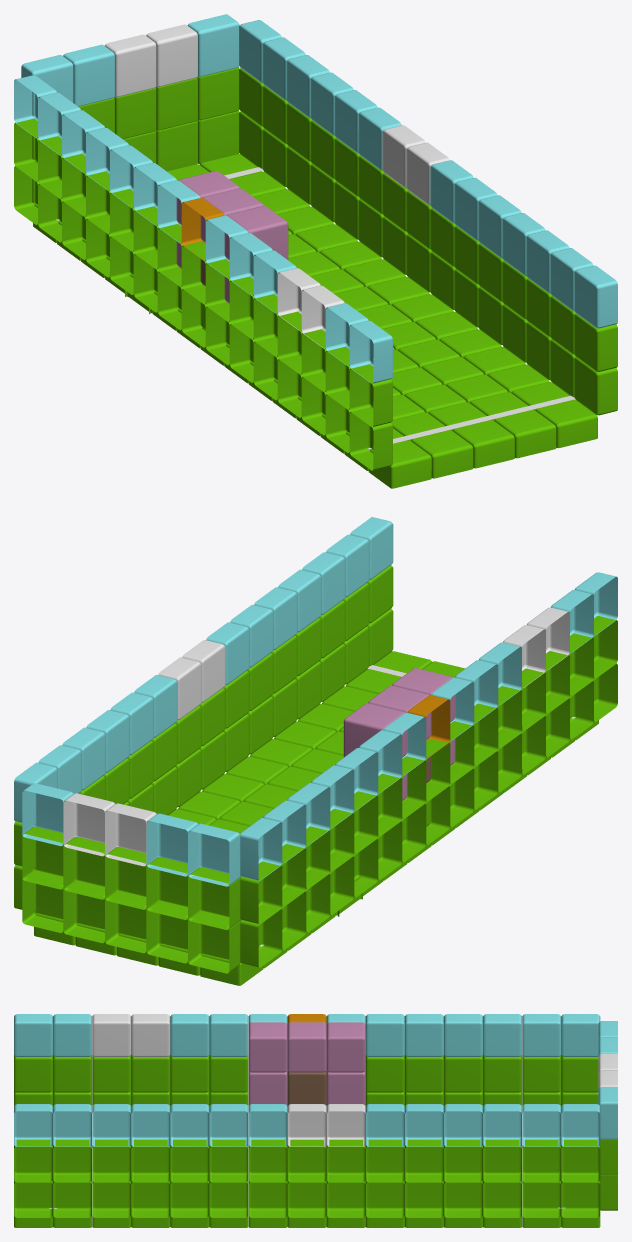
The model's file is stage3.fbx.
3 renders of one model, top to bottom at view 1: azimuth 30°, elevation 25°; view 2: azimuth 150°, elevation 25°; view 3: azimuth 270°, elevation 25°, orthographic. The views are drawn at different scales.
Parts seen in each view (by area): view 1: polySurface468, polySurface465, polySurface462, polySurface471, polySurface449, polySurface350, polySurface526, polySurface485, polySurface438, polySurface316, yuka8, yuka5 (+125 smaller); view 2: polySurface407, polySurface461, polySurface460, polySurface464, polySurface470, polySurface467, polySurface473, polySurface462, polySurface468, polySurface525, polySurface465, polySurface523 (+102 smaller); view 3: polySurface532, polySurface531, polySurface533, polySurface500, polySurface403, polySurface517, polySurface495, polySurface496, polySurface497, polySurface435, polySurface430, polySurface436 (+100 smaller).
Boxes of the visible parts, left/top/right/bottom form: polySurface468: left=146, top=24, right=197, bottom=86; polySurface465: left=104, top=34, right=156, bottom=96; polySurface462: left=63, top=44, right=114, bottom=106; polySurface471: left=187, top=14, right=239, bottom=76; polySurface449: left=574, top=265, right=617, bottom=328; polySurface350: left=349, top=407, right=392, bottom=470; polySurface526: left=349, top=321, right=392, bottom=383; polySurface485: left=349, top=364, right=392, bottom=426; polySurface438: left=574, top=314, right=617, bottom=371; polySurface316: left=574, top=357, right=617, bottom=415; yuka8: left=411, top=430, right=473, bottom=478; yuka5: left=494, top=409, right=556, bottom=458; polySurface407: left=188, top=910, right=240, bottom=973; polySurface461: left=188, top=823, right=240, bottom=886; polySurface460: left=188, top=867, right=240, bottom=929; polySurface464: left=146, top=900, right=188, bottom=963; polySurface470: left=63, top=880, right=105, bottom=943; polySurface467: left=105, top=890, right=146, bottom=953; polySurface473: left=22, top=870, right=63, bottom=932; polySurface462: left=146, top=813, right=198, bottom=876; polySurface468: left=63, top=793, right=115, bottom=856; polySurface525: left=240, top=905, right=282, bottom=967; polySurface465: left=105, top=803, right=156, bottom=866; polySurface523: left=240, top=818, right=282, bottom=880; polySurface532: left=248, top=1022, right=287, bottom=1072; polySurface531: left=326, top=1022, right=365, bottom=1072; polySurface533: left=287, top=1022, right=326, bottom=1072; polySurface500: left=365, top=1014, right=404, bottom=1056; polySurface403: left=92, top=1014, right=131, bottom=1056; polySurface517: left=522, top=1014, right=561, bottom=1056; polySurface495: left=131, top=1014, right=170, bottom=1056; polySurface496: left=170, top=1014, right=209, bottom=1056; polySurface497: left=209, top=1014, right=248, bottom=1056; polySurface435: left=326, top=1175, right=365, bottom=1217; polySurface430: left=131, top=1175, right=170, bottom=1217; polySurface436: left=365, top=1175, right=404, bottom=1217.
Size of the model in its own units: 58.9 by 35.42 by 155.
